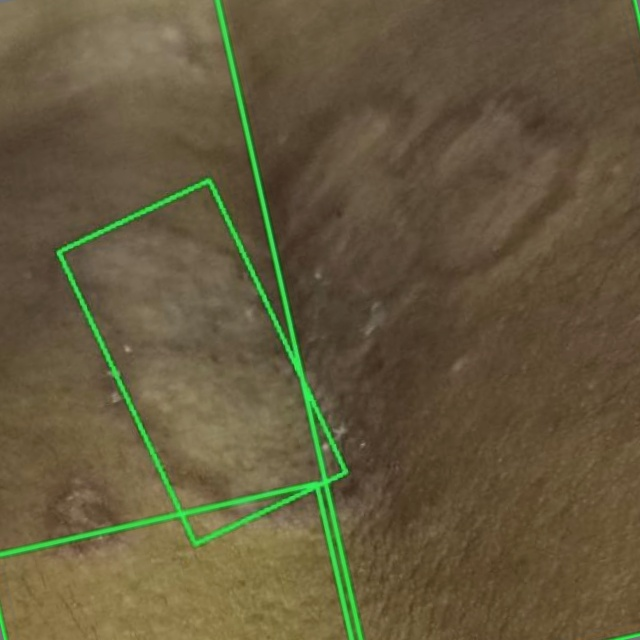Tinea Corporis: (217, 0, 639, 639), (57, 180, 345, 543)
